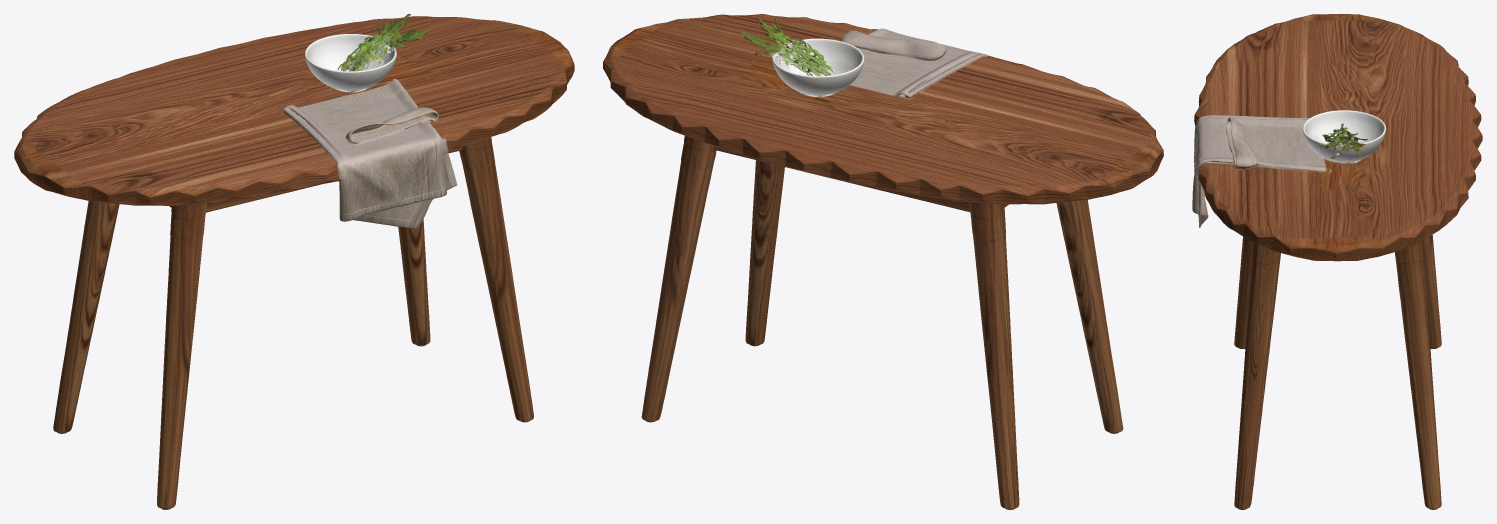
Rendered from mesa.glb.
3 renders of one model, left to right at view 1: azimuth 30°, elevation 25°; view 2: azimuth 150°, elevation 25°; view 3: azimuth 270°, elevation 25°, orthographic. The views are drawn at different scales.
Visible parts, largest first — view 1: mesh_node; view 2: mesh_node; view 3: mesh_node.
Part boxes in pixels (left/top/right/bottom): mesh_node: left=14, top=14, right=574, bottom=509; mesh_node: left=603, top=14, right=1163, bottom=509; mesh_node: left=1192, top=14, right=1482, bottom=509.
Bounding box in the file's own units: 1.9 × 1.28 × 0.9743.
Materials: 1 (1 with a texture image).
